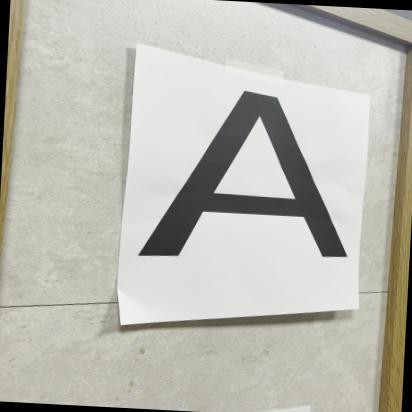seat: (130, 73, 367, 279)
